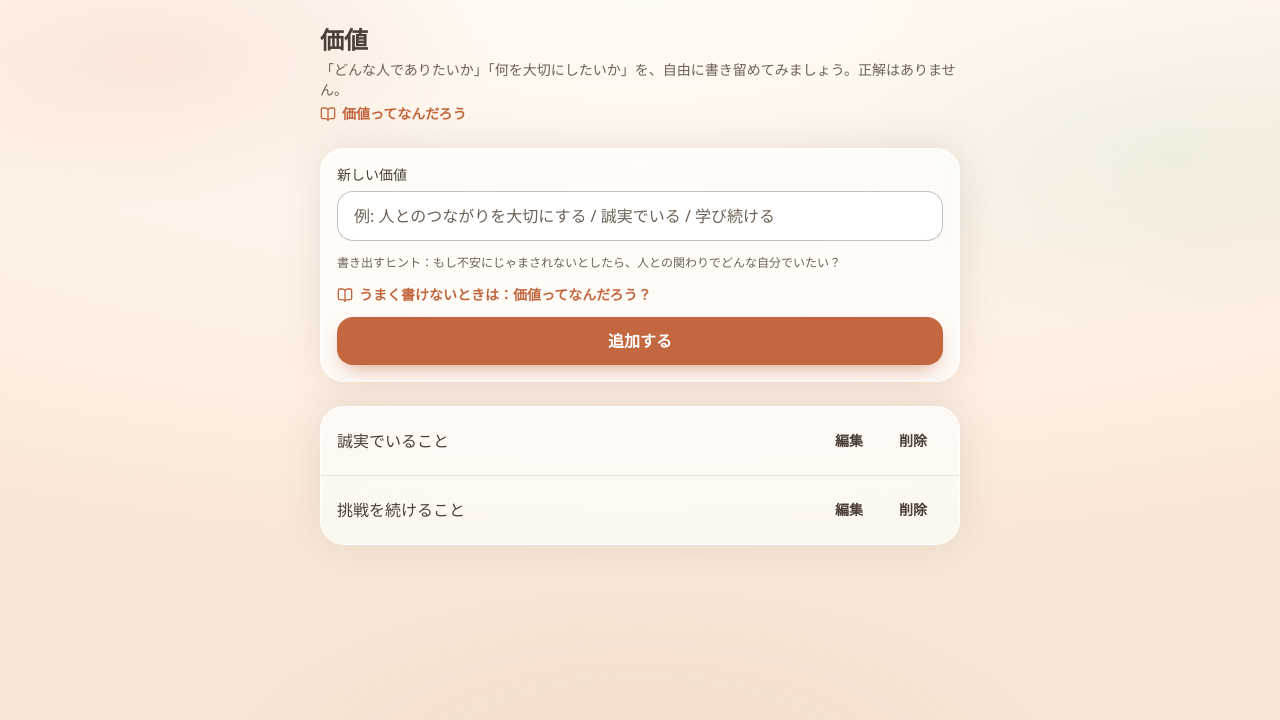
Test case: ValuesPage › 価値を編集して保存できる
Click the button with aria-label "誠実でいること を編集": coordinates (849, 440) left=819, top=418, right=879, bottom=462
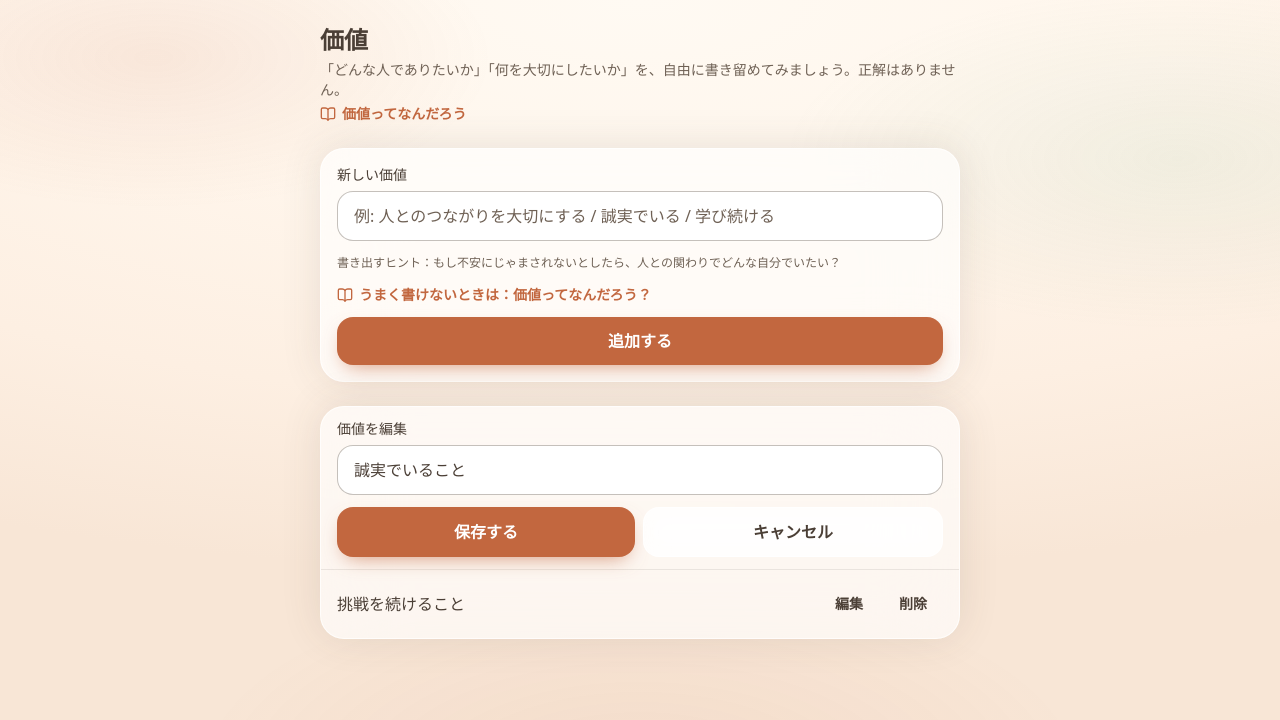
Replace the text in the field labelled "価値を編集" with "正直でいること": coordinates (640, 470) left=337, top=444, right=943, bottom=494
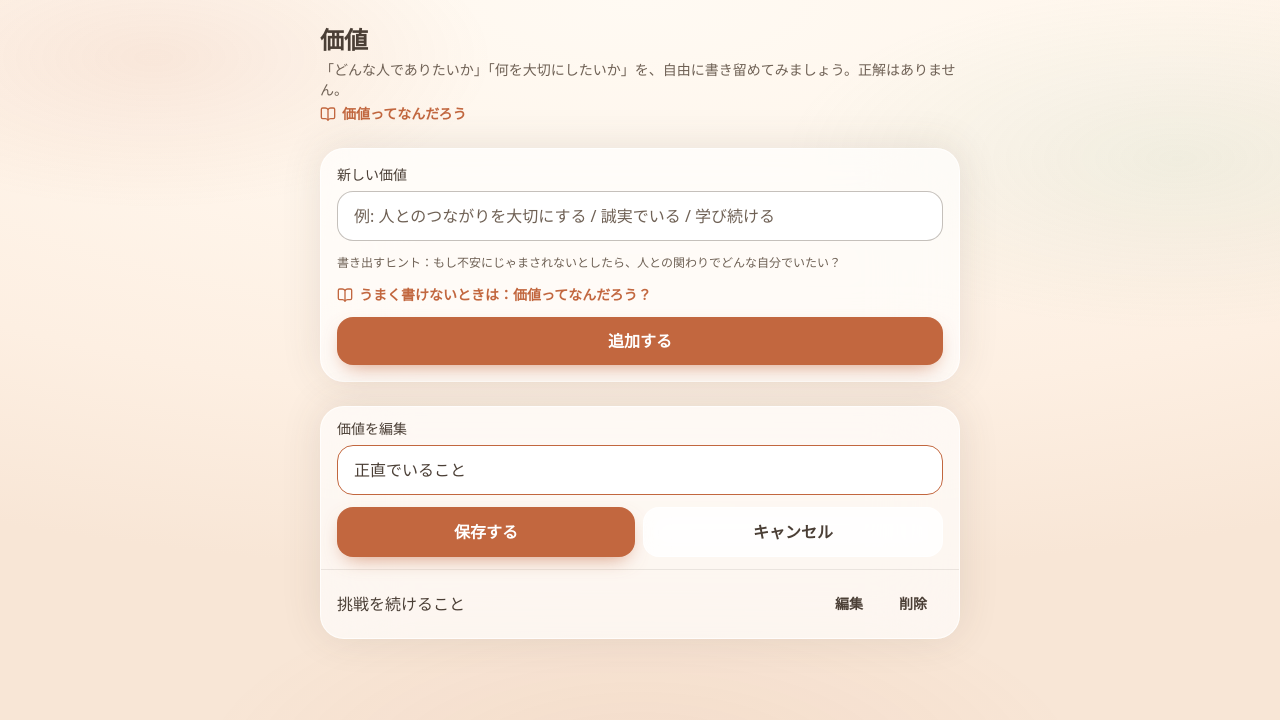
Click the button "保存する": coordinates (486, 532) left=337, top=506, right=635, bottom=556
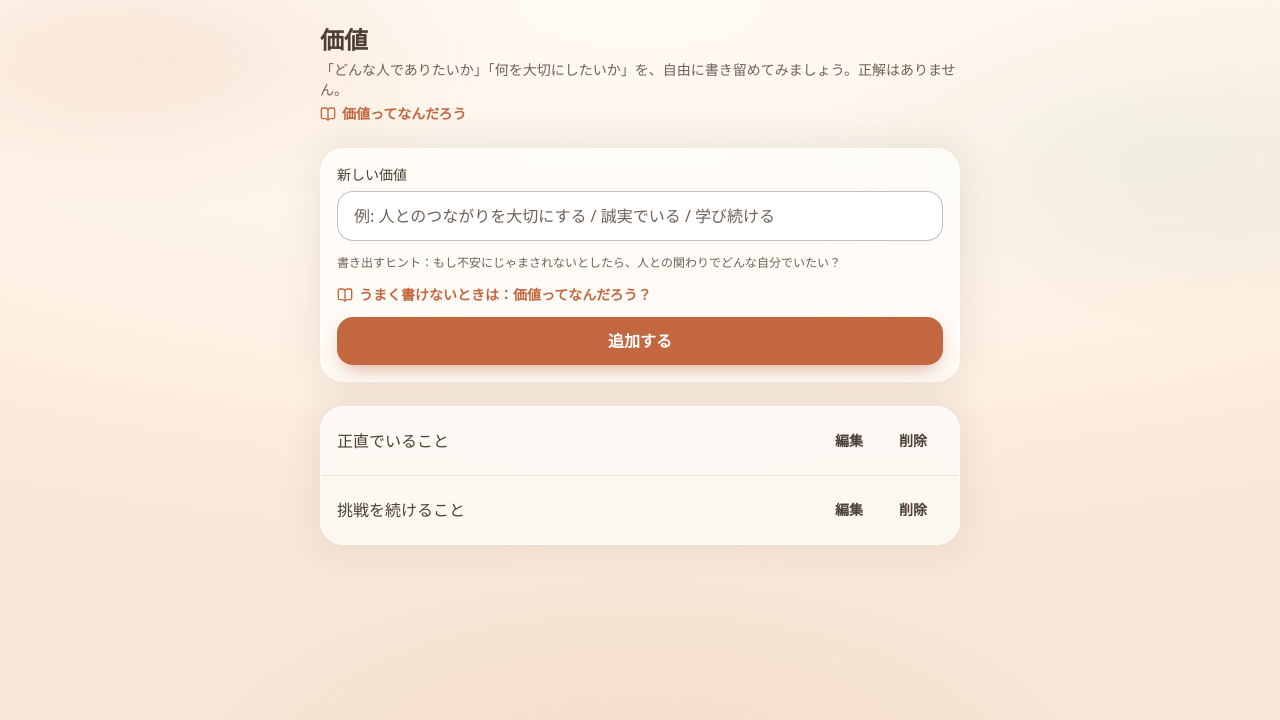
Check: the text "誠実でいること" is not shown
Check: the text "正直でいること" is shown, box left=337, top=428, right=449, bottom=452
